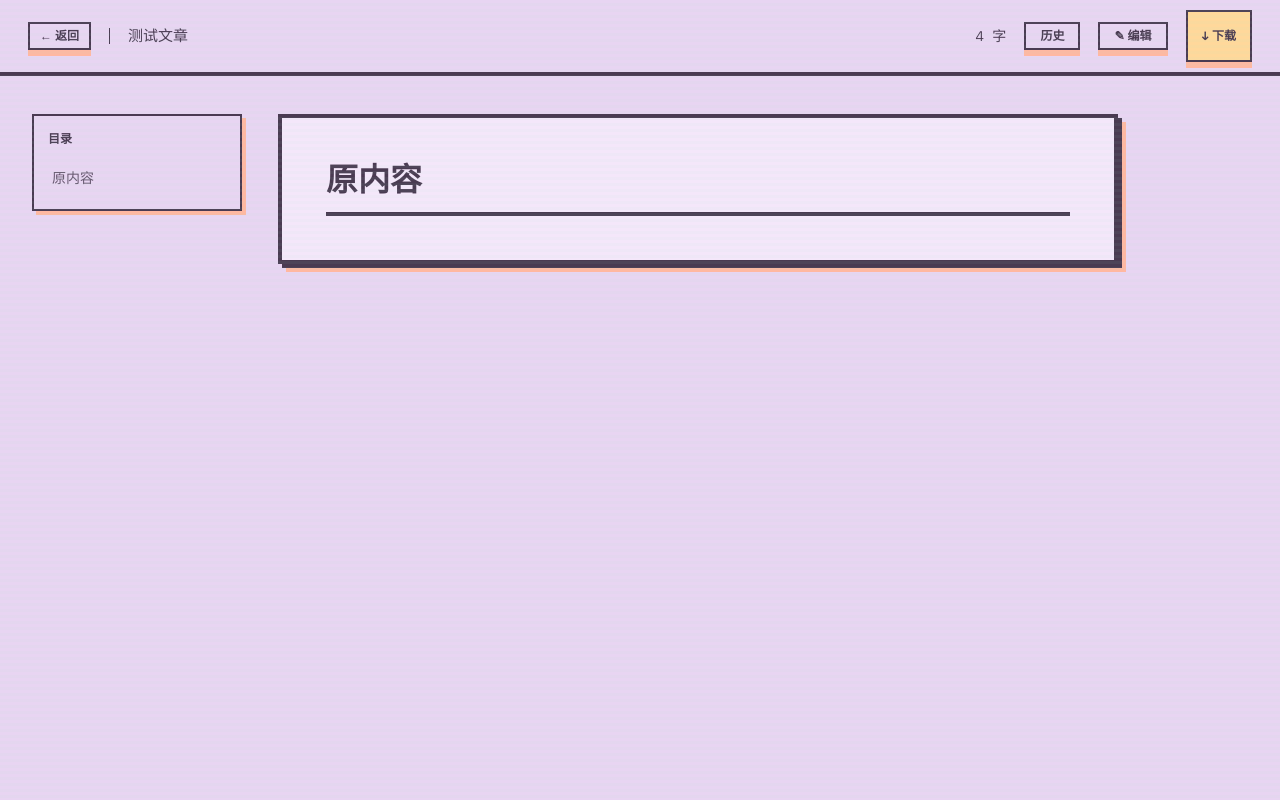
Test case: edits and saves the server-provided article in the client component
The image size is (1280, 800).
Step 1. Click the button "✎ 编辑" → coordinates (1133, 36), box x1=1098 y1=22 x2=1168 y2=50
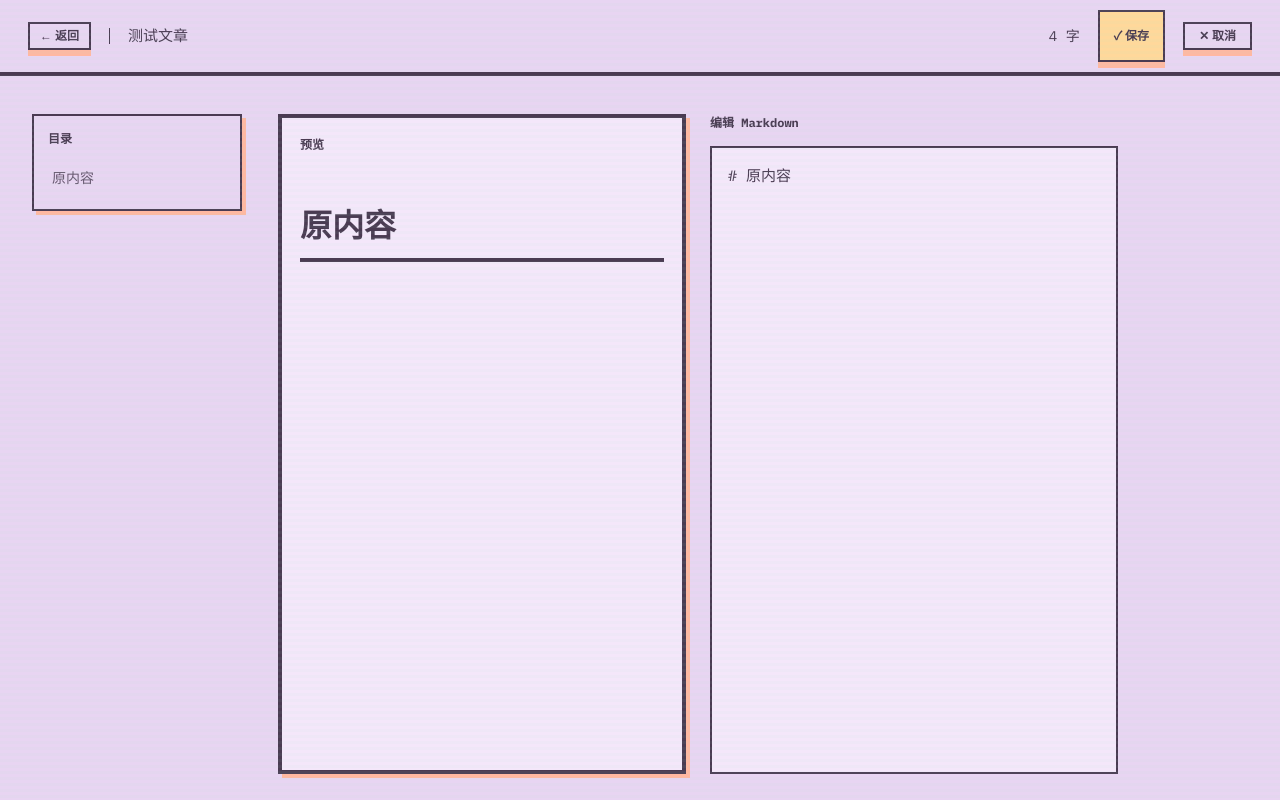
Step 2. Replace the text in the text box with "# 新内容" → coordinates (914, 460), box x1=710 y1=146 x2=1118 y2=774
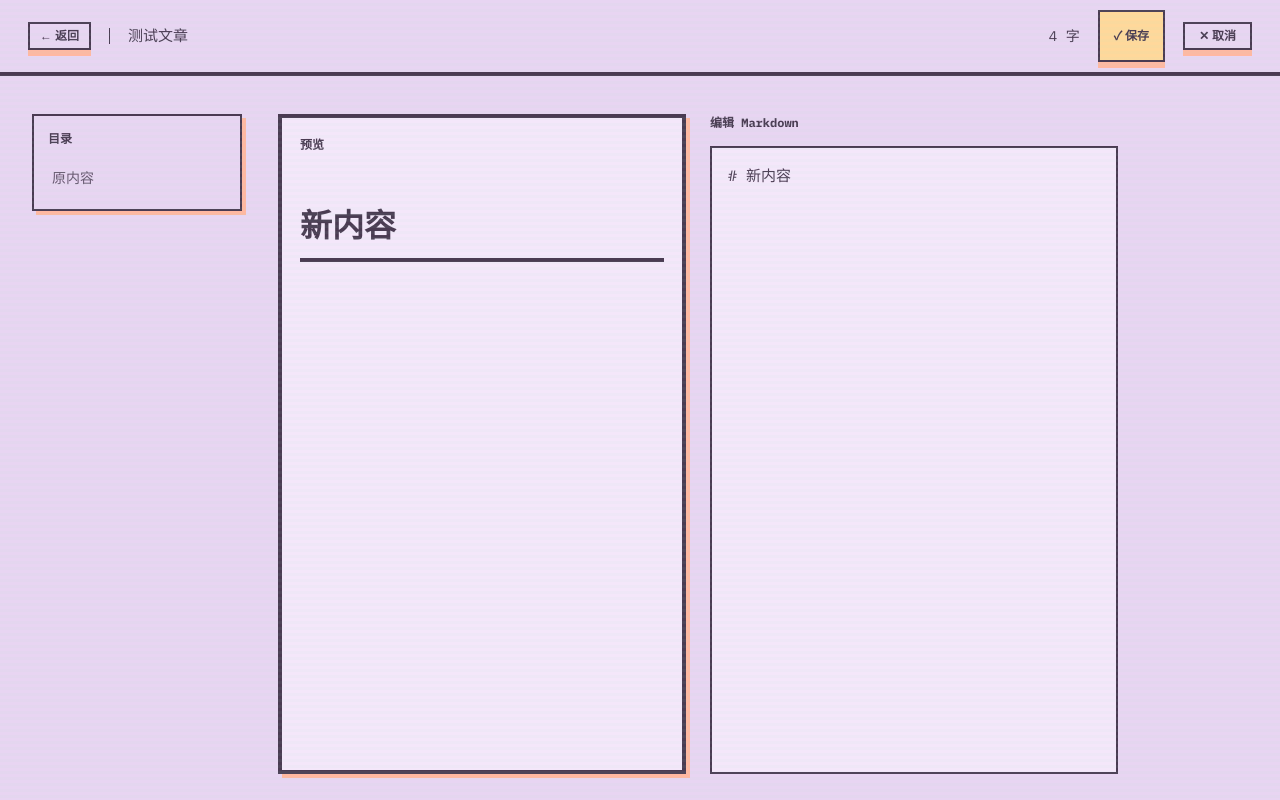
Step 3. Click the button "✓ 保存" → coordinates (1131, 36), box x1=1098 y1=10 x2=1165 y2=62
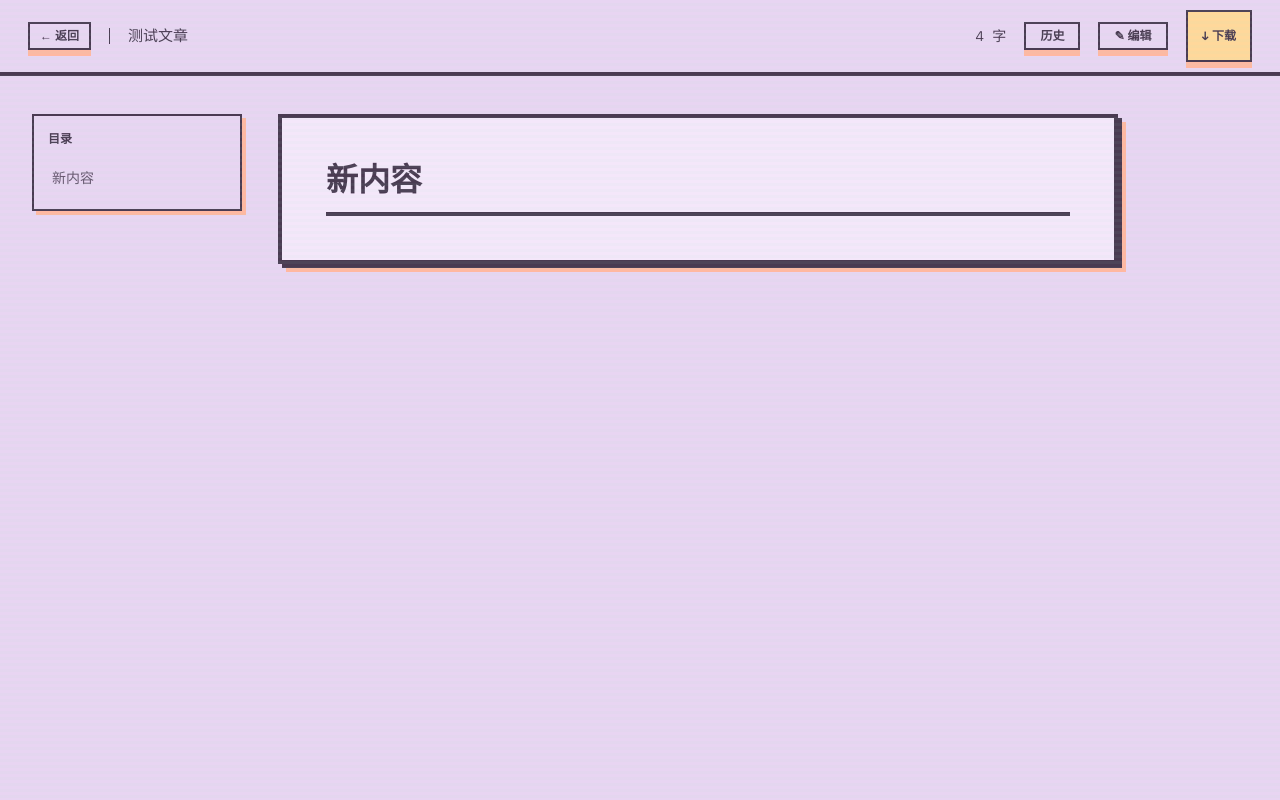
Expected: the heading "新内容" is shown, x1=326 y1=162 x2=1070 y2=216
